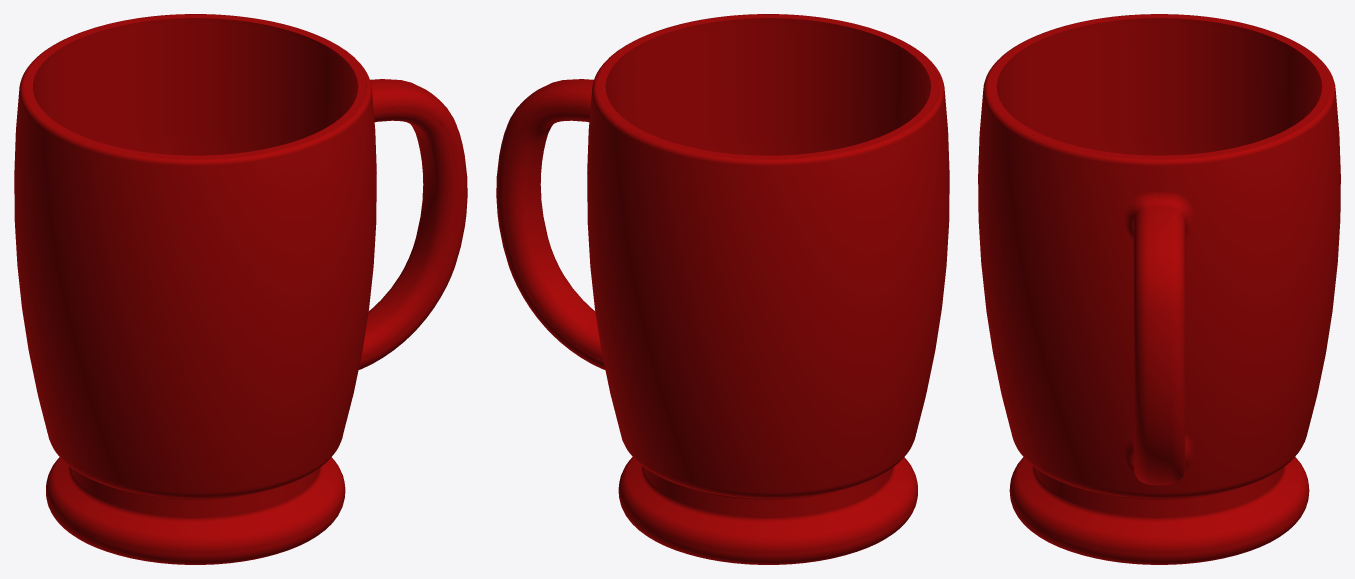
Rendered from CM-MUG041.glb.
3 renders of one model, left to right at view 1: azimuth 30°, elevation 25°; view 2: azimuth 150°, elevation 25°; view 3: azimuth 270°, elevation 25°, orthographic.
Bounding box in the file's own units: 0.0949 × 0.09 × 0.0705.
